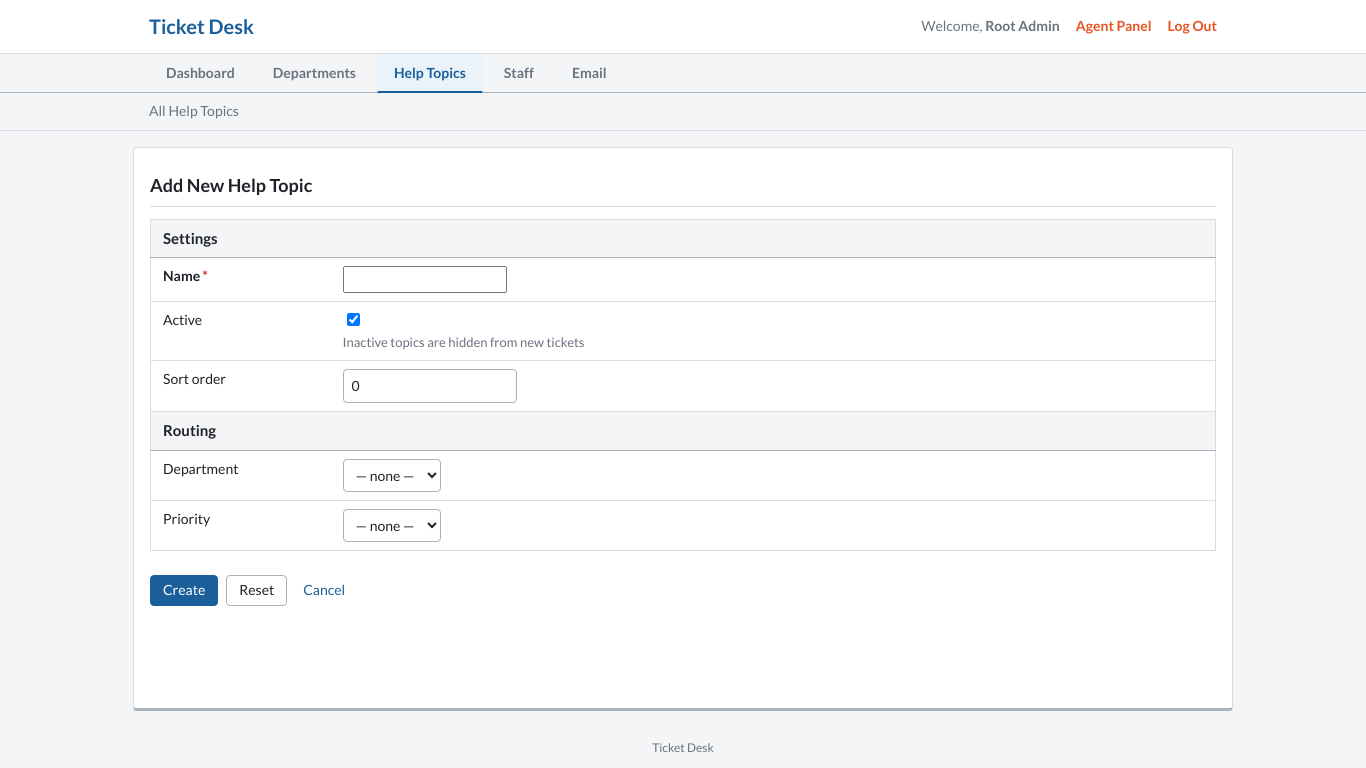
Scenario: create submits all fields, flashes, and returns to the list
Expected: the heading "Add New Help Topic" is shown, [150,172,312,198]
Expected: the column heading "Settings" is shown, [150,219,1216,258]
Type "Outages" into the field labelled "Name*".
click(424, 280); type("Outages")  # box [342,266,506,293]
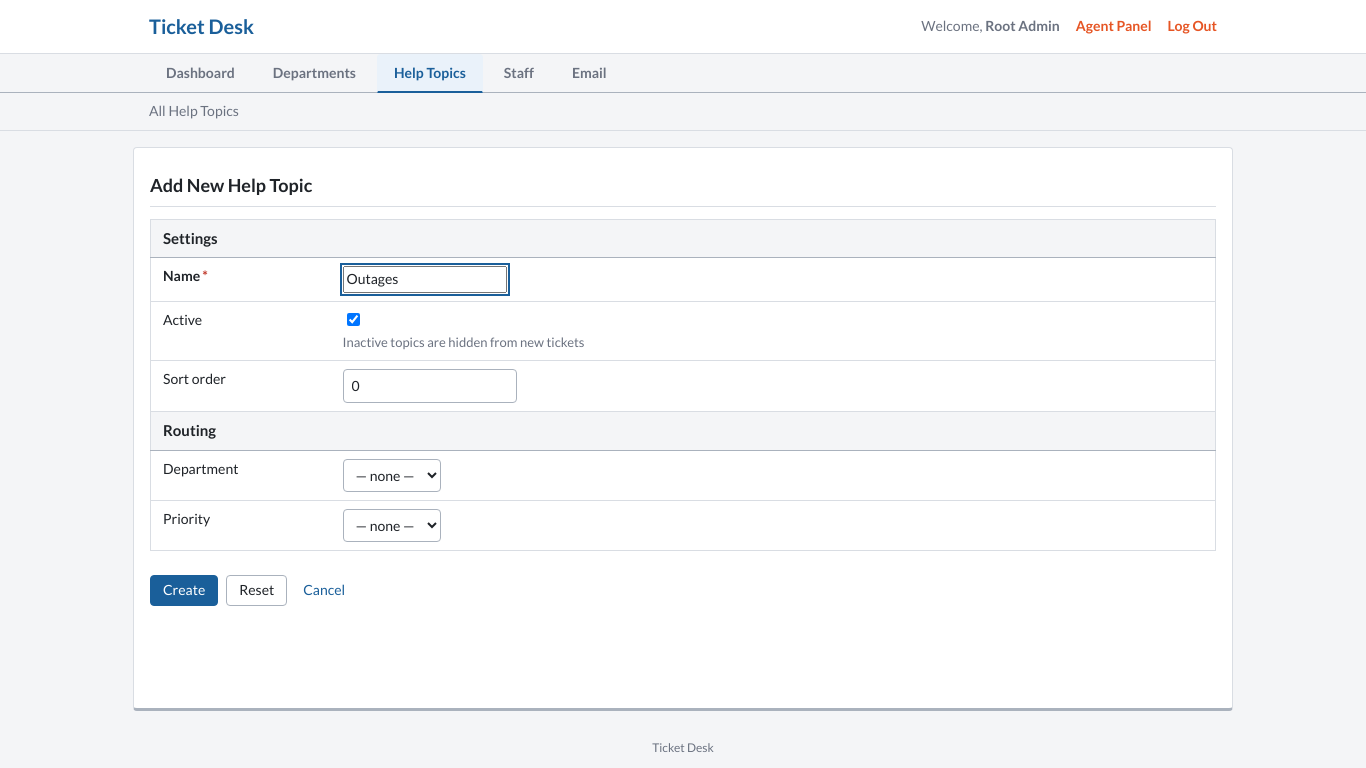
Select "Support" in the dropdown labelled "Department" at (392, 475), box [342,459,440,492]
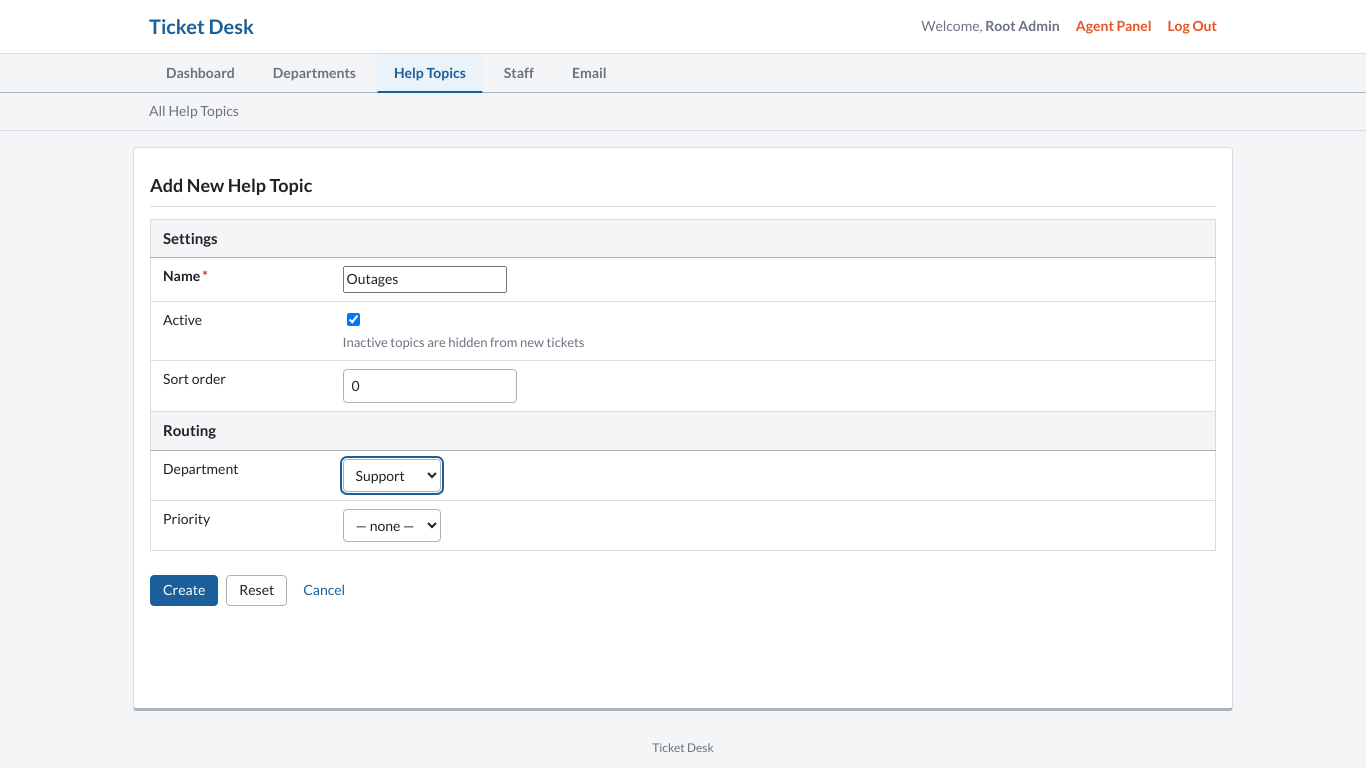
Select "high" in the dropdown labelled "Priority" at (392, 525), box [342,509,440,542]
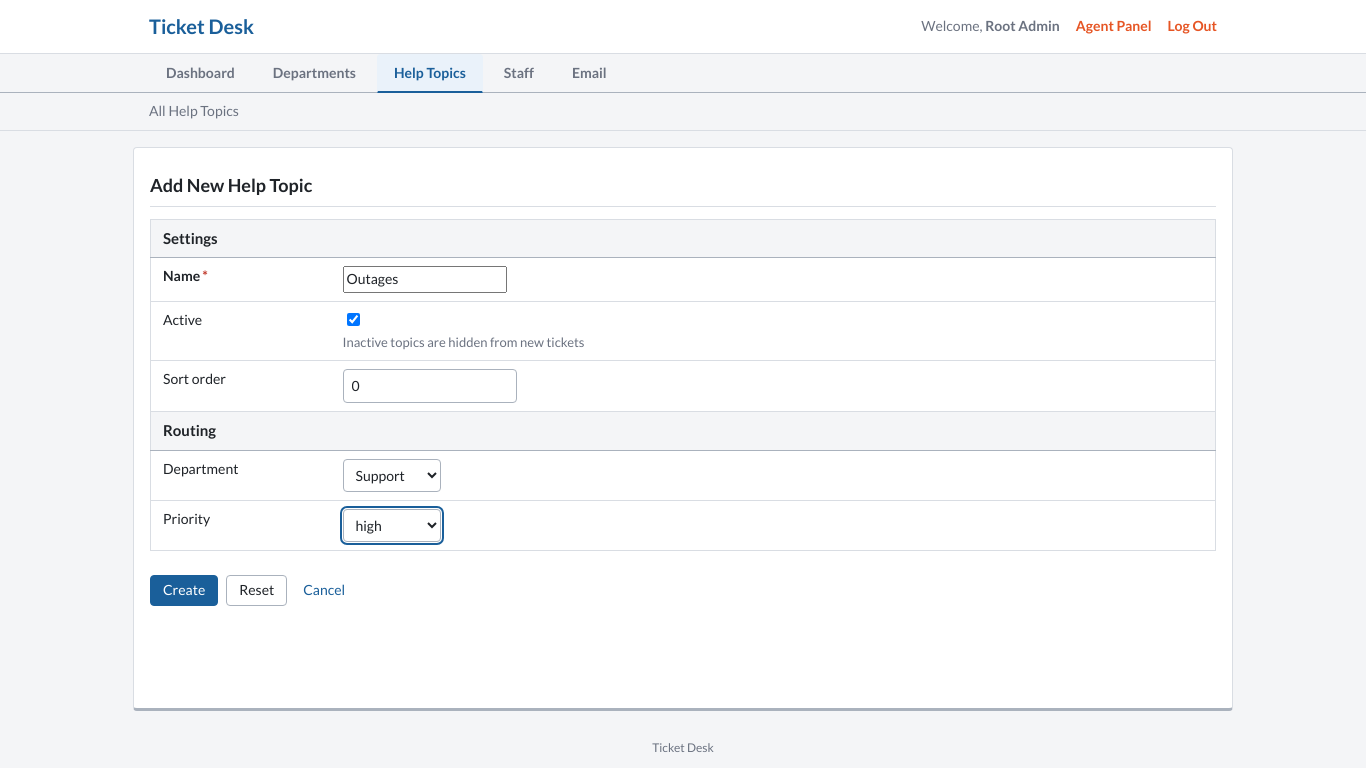
Click the checkbox labelled "Active".
click(353, 319)  # box [346,313,360,326]
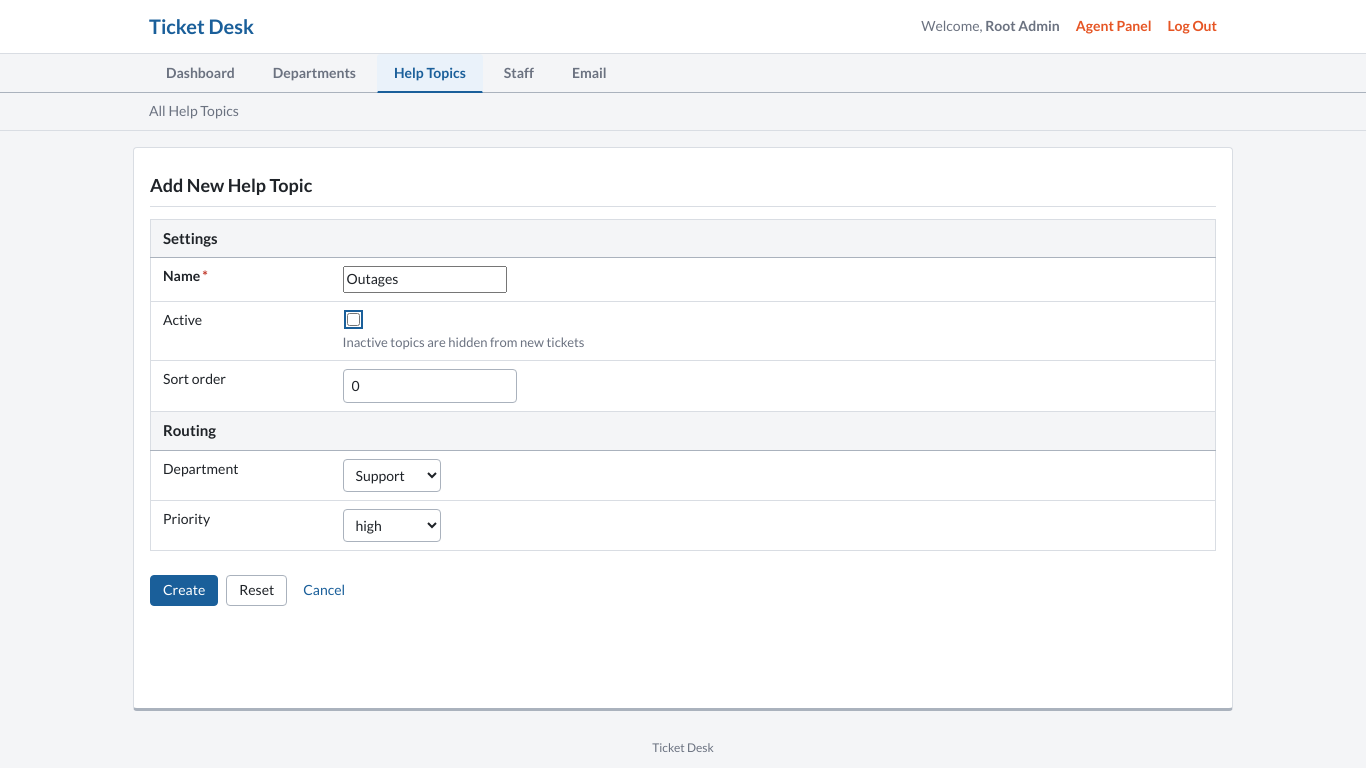
Replace the text in the number field labelled "Sort order" with "5" at (430, 386), box [342,369,516,403]
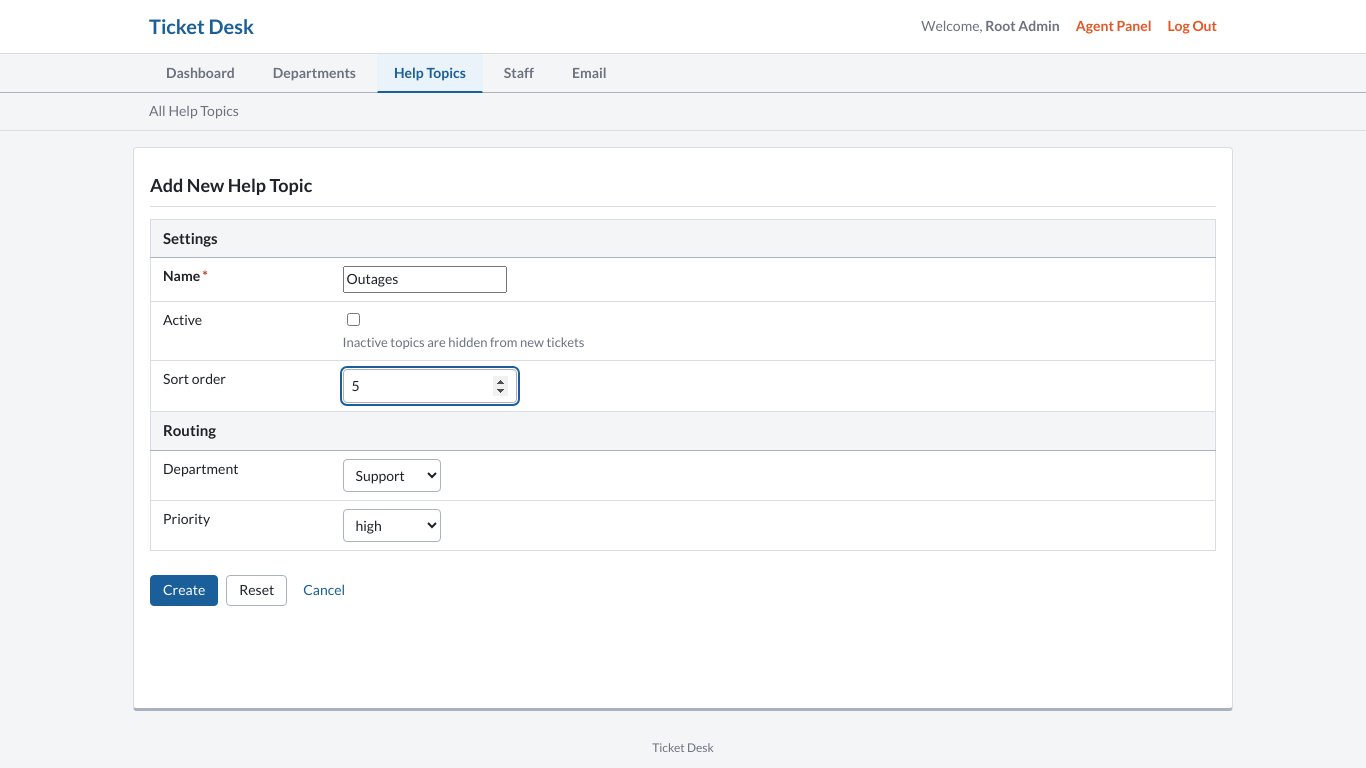
Click the button "Create".
click(184, 590)  # box [150,575,218,606]
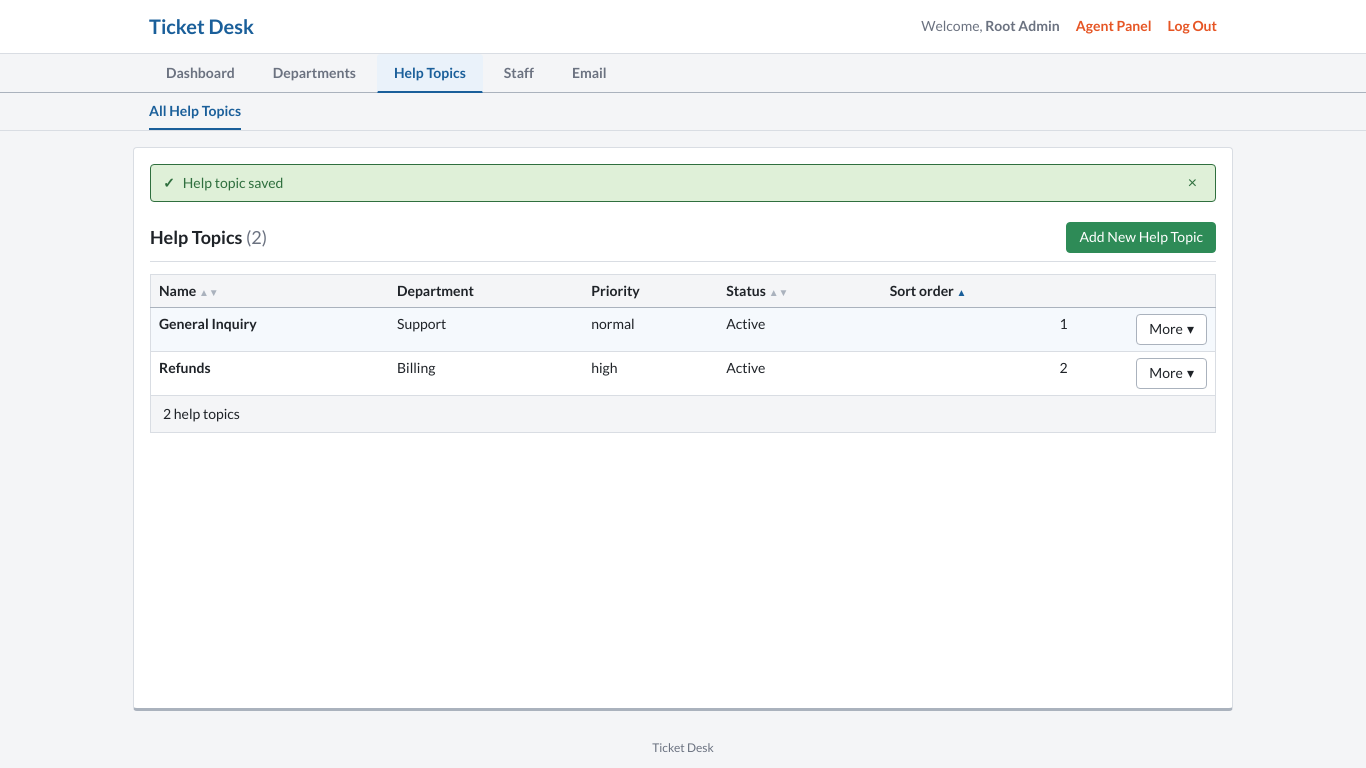
Result: the heading "Help Topics (2)" is shown at [150,224,267,250]
Result: the message shows "Help topic saved" at [183,174,283,191]
